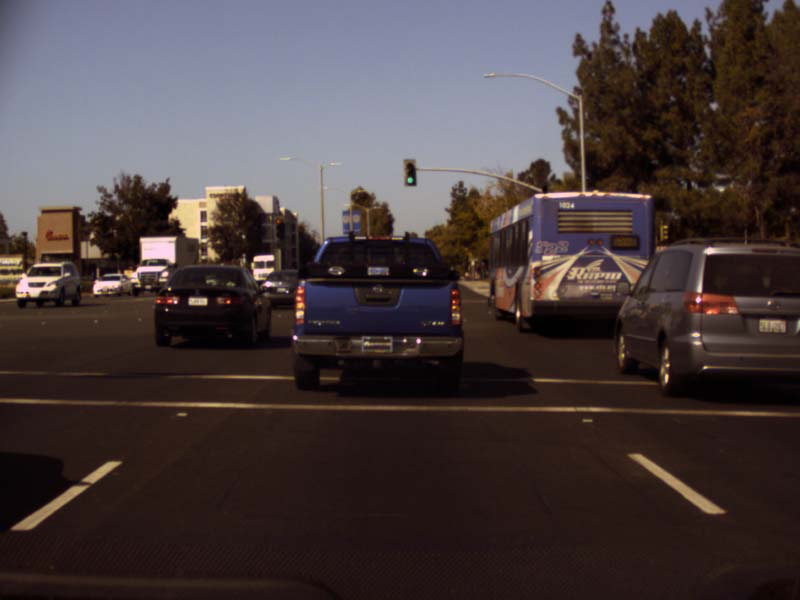Green: (402, 158, 417, 186)
Red: (274, 218, 283, 238)
